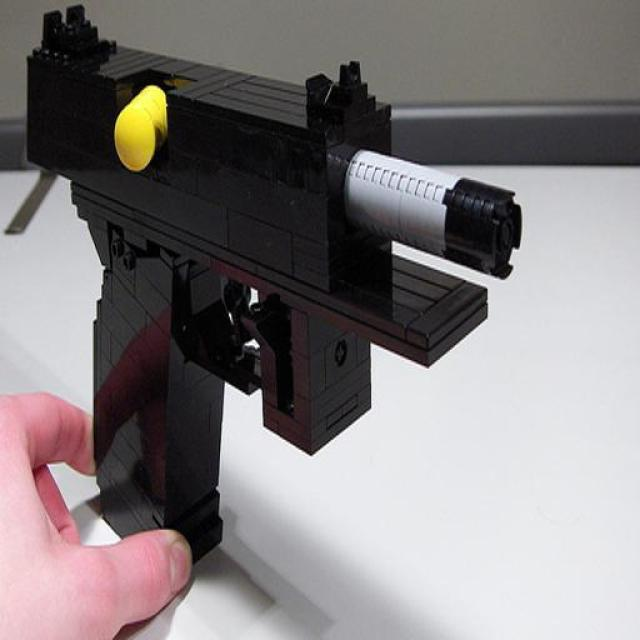pistol: (26, 5, 524, 566)
